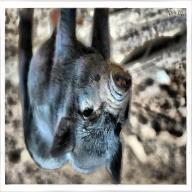boar: (18, 7, 133, 185)
